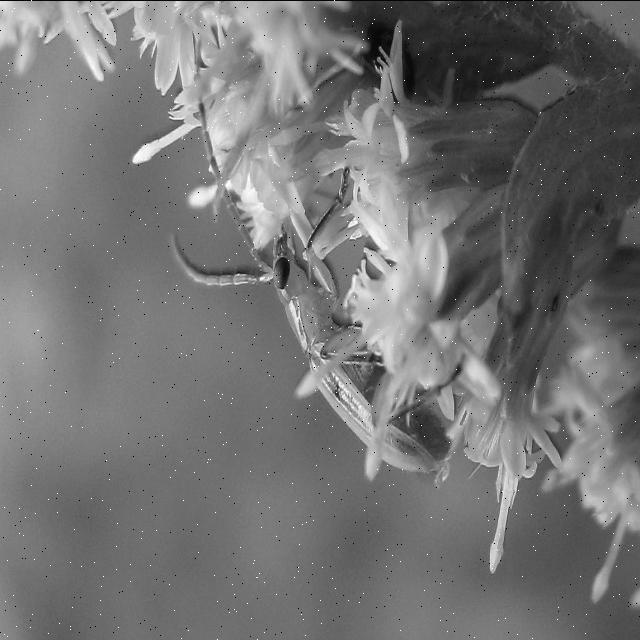gusano_gris: (168, 33, 450, 475)
